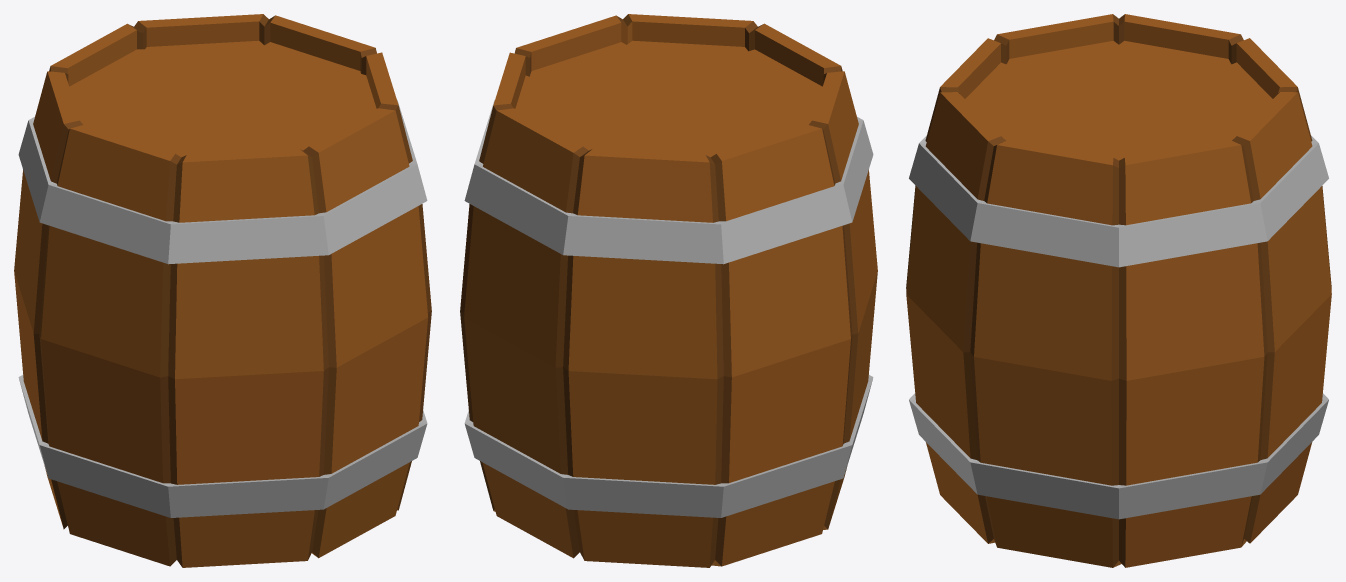
Rendered from BarelUV.fbx.
3 views of the same model, side by side, from view 1: azimuth 30°, elevation 25°; view 2: azimuth 150°, elevation 25°; view 3: azimuth 270°, elevation 25° (orthographic).
Parts seen in each view (by area): view 1: Cylinder; view 2: Cylinder; view 3: Cylinder.
Part boxes in pixels (<box>): Cylinder: <box>14,14,431,567</box>; Cylinder: <box>460,14,877,567</box>; Cylinder: <box>906,14,1331,567</box>.
Bounding box in the file's own units: 85.71 × 89.44 × 85.71.
